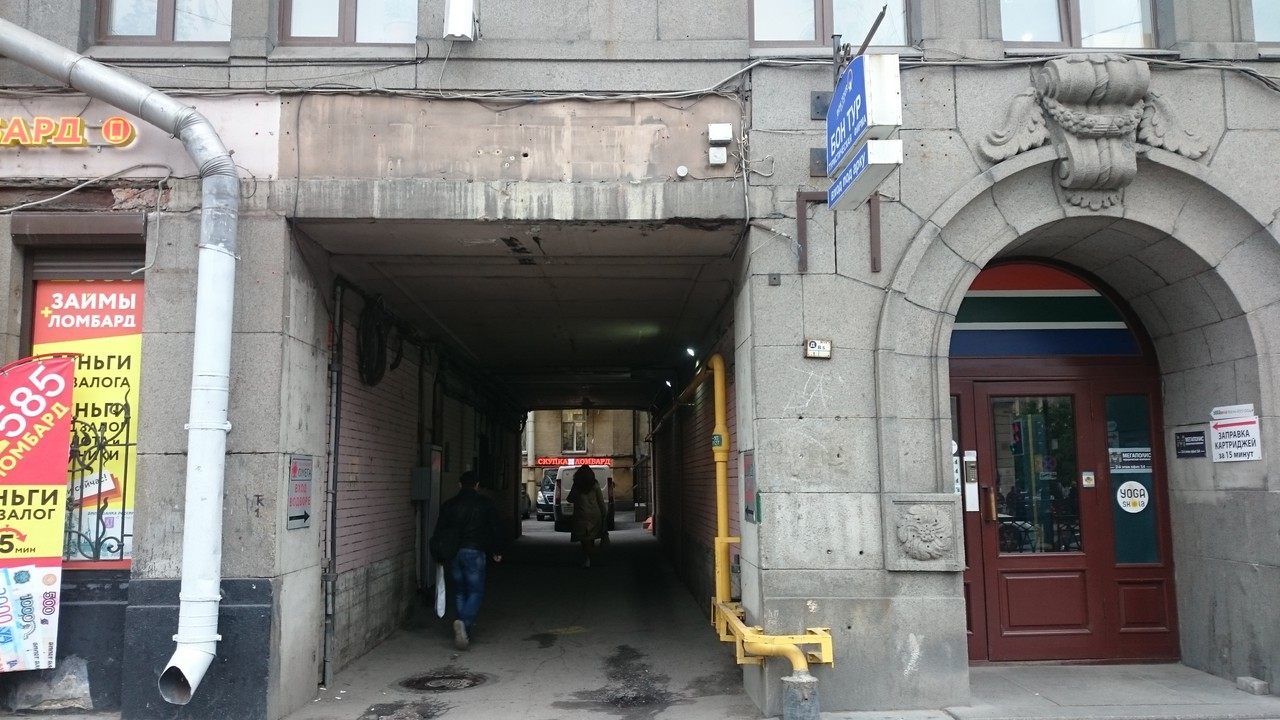arch: (278, 213, 759, 714)
cantilever: (806, 31, 905, 221)
door: (970, 380, 1108, 664)
